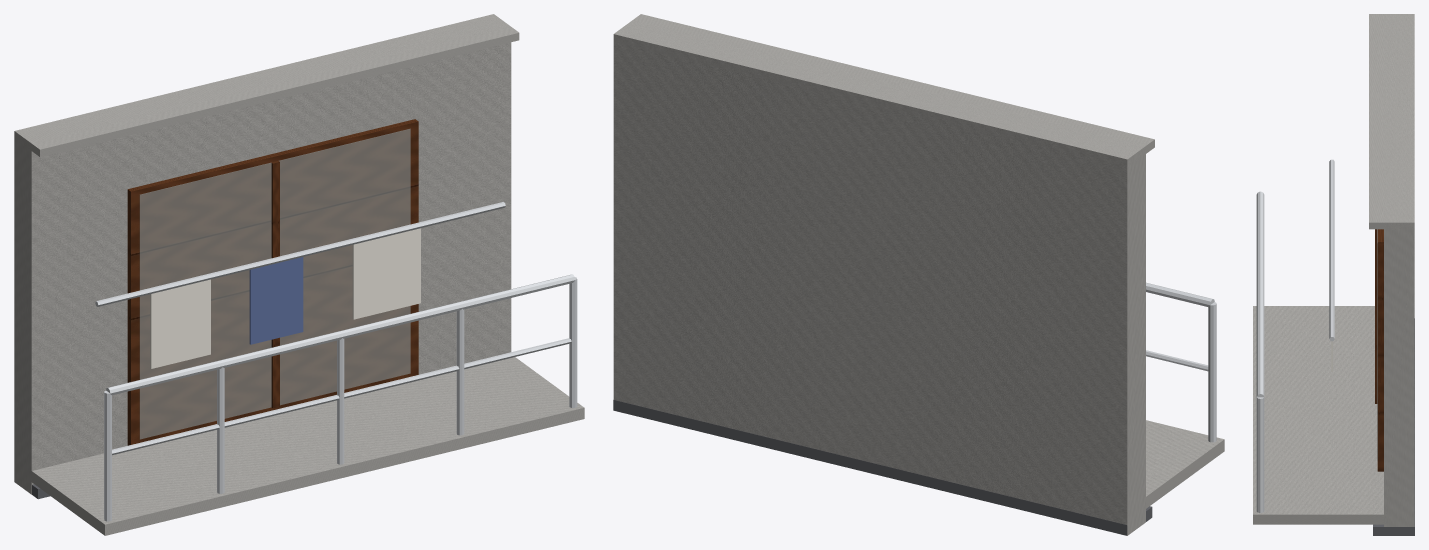
Rendered from upper_storey_balcony_bay.glb.
3 views of the same model, side by side, from view 1: azimuth 30°, elevation 25°; view 2: azimuth 150°, elevation 25°; view 3: azimuth 270°, elevation 25° (orthographic). The views are drawn at different scales.
Parts seen in each view (by area): view 1: upper-storey-balcony-bay-concrete, upper-storey-balcony-bay-darkwood, upper-storey-balcony-bay-glass, upper-storey-balcony-bay-steel, upper-storey-balcony-bay-cream, upper-storey-balcony-bay-indigo; view 2: upper-storey-balcony-bay-concrete, upper-storey-balcony-bay-charcoal, upper-storey-balcony-bay-steel; view 3: upper-storey-balcony-bay-concrete, upper-storey-balcony-bay-steel, upper-storey-balcony-bay-darkwood, upper-storey-balcony-bay-charcoal, upper-storey-balcony-bay-glass.
Part boxes in pixels (x1,y1,x2,y2): upper-storey-balcony-bay-concrete: (14, 14, 584, 535); upper-storey-balcony-bay-darkwood: (127, 119, 418, 445); upper-storey-balcony-bay-glass: (139, 129, 410, 439); upper-storey-balcony-bay-steel: (95, 202, 577, 521); upper-storey-balcony-bay-cream: (150, 228, 420, 368); upper-storey-balcony-bay-indigo: (249, 257, 303, 344); upper-storey-balcony-bay-concrete: (613, 14, 1224, 535); upper-storey-balcony-bay-charcoal: (613, 400, 1152, 535); upper-storey-balcony-bay-steel: (1146, 282, 1216, 442); upper-storey-balcony-bay-concrete: (1253, 14, 1414, 526); upper-storey-balcony-bay-steel: (1256, 159, 1334, 512); upper-storey-balcony-bay-darkwood: (1375, 229, 1383, 471); upper-storey-balcony-bay-charcoal: (1373, 318, 1414, 535); upper-storey-balcony-bay-glass: (1377, 229, 1377, 460).
Bounding box in the file's own units: 4 × 2.8 × 1.31.
Materials: 7 (2 with a texture image).
